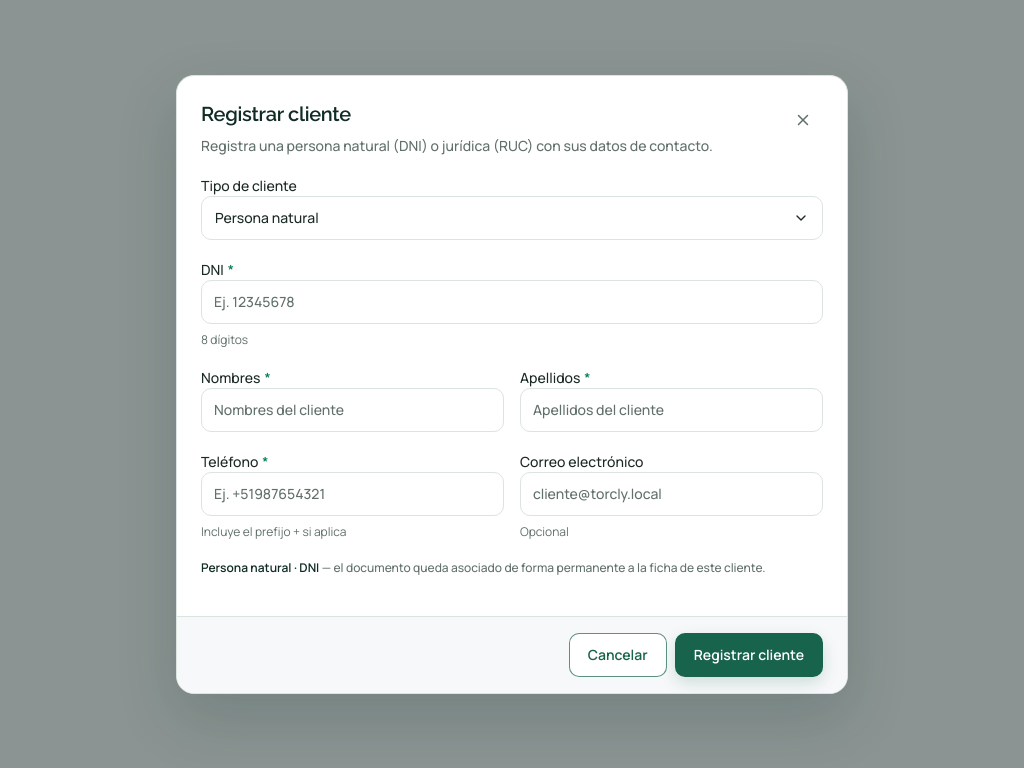
Test case: Formulario de clientes › valida el formulario de persona natural sin enviar campos vacíos
The image size is (1024, 768).
Type "123" into the field labelled "DNI* 8 dígitos".
click(512, 302); type("123")  # box [202,280,822,322]
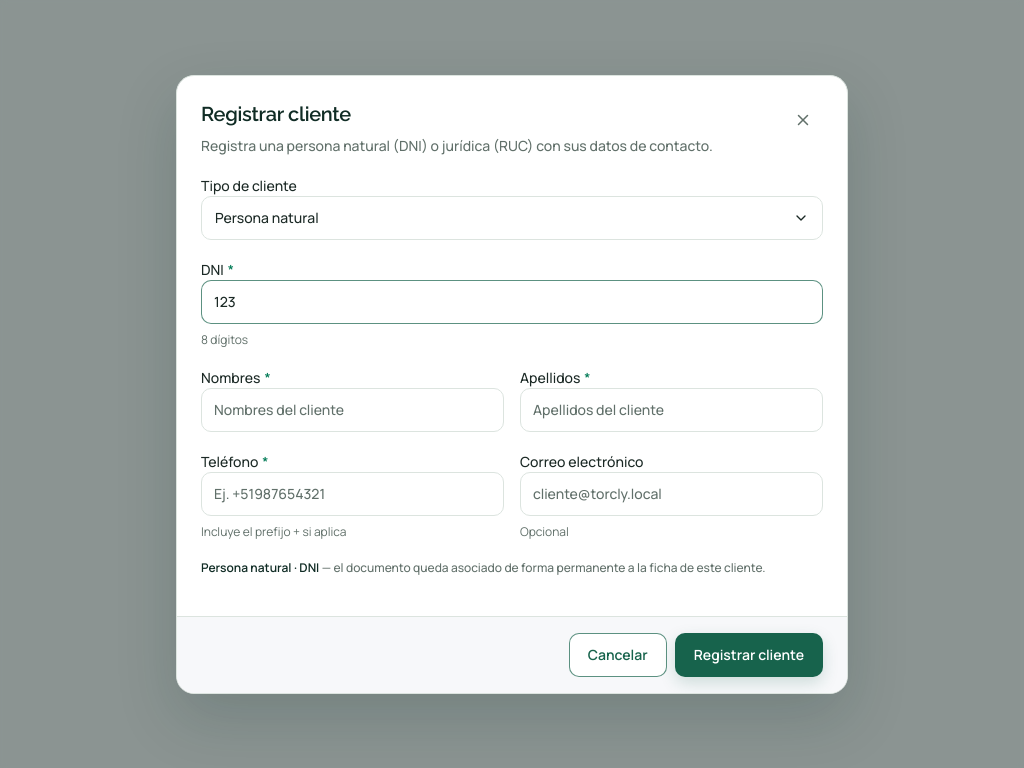
Click the button "Registrar cliente".
click(749, 654)  # box [675,632,823,676]
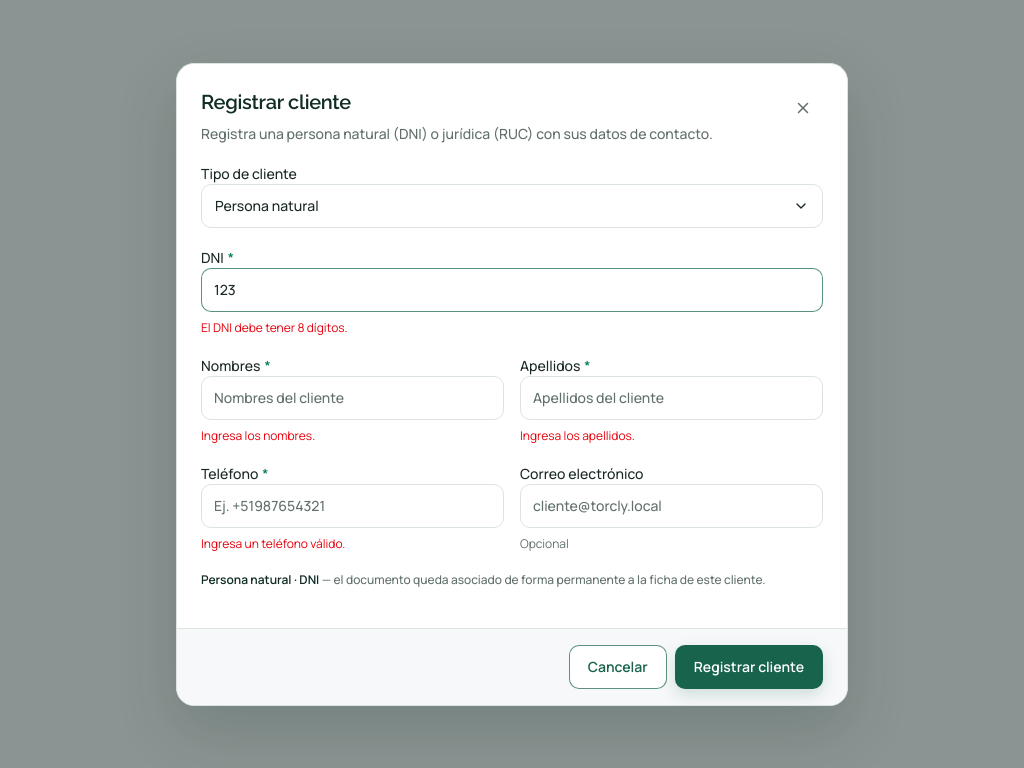
Expected: the text "El DNI debe tener 8 dígitos." is shown, [201,318,348,336]
Expected: the text "Ingresa los nombres." is shown, [201,426,315,444]
Expected: the text "Ingresa los apellidos." is shown, [520,426,635,444]
